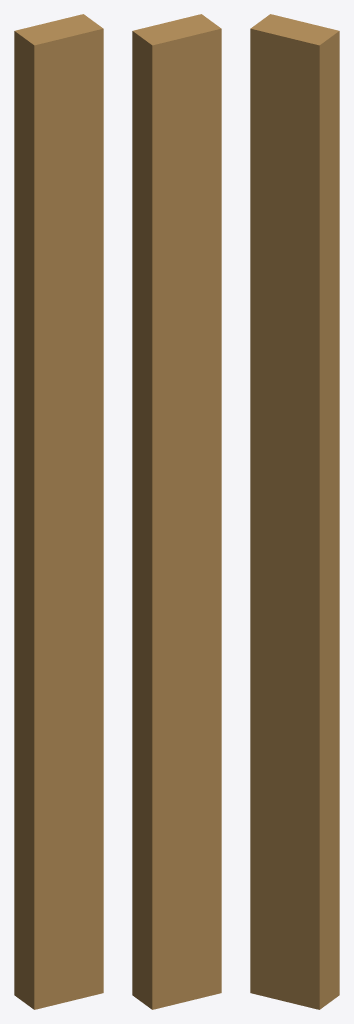
3 renders of one model, left to right at view 1: azimuth 30°, elevation 25°; view 2: azimuth 210°, elevation 25°; view 3: azimuth 330°, elevation 25°, orthographic.
Visible parts, largest first — view 1: GAP-14-L-jack_stud-p3; view 2: GAP-14-L-jack_stud-p3; view 3: GAP-14-L-jack_stud-p3.
Part boxes in pixels (bbox=[...]): GAP-14-L-jack_stud-p3: bbox=[14, 14, 103, 1009]; GAP-14-L-jack_stud-p3: bbox=[132, 14, 221, 1009]; GAP-14-L-jack_stud-p3: bbox=[250, 14, 339, 1009].
Size of the model in its own units: 0.09 by 1.2 by 0.045.
